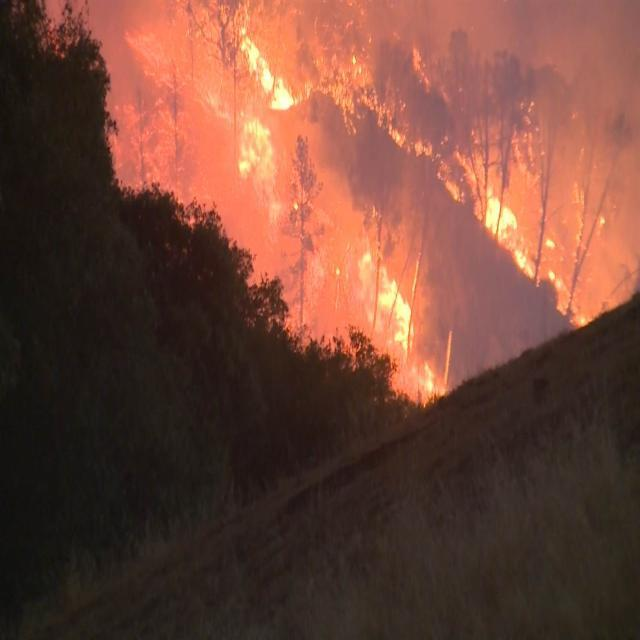Fire: (369, 258, 432, 378), (239, 34, 301, 120), (236, 119, 284, 205), (477, 186, 527, 248), (330, 53, 372, 117)
Smoke: (32, 0, 640, 409)
